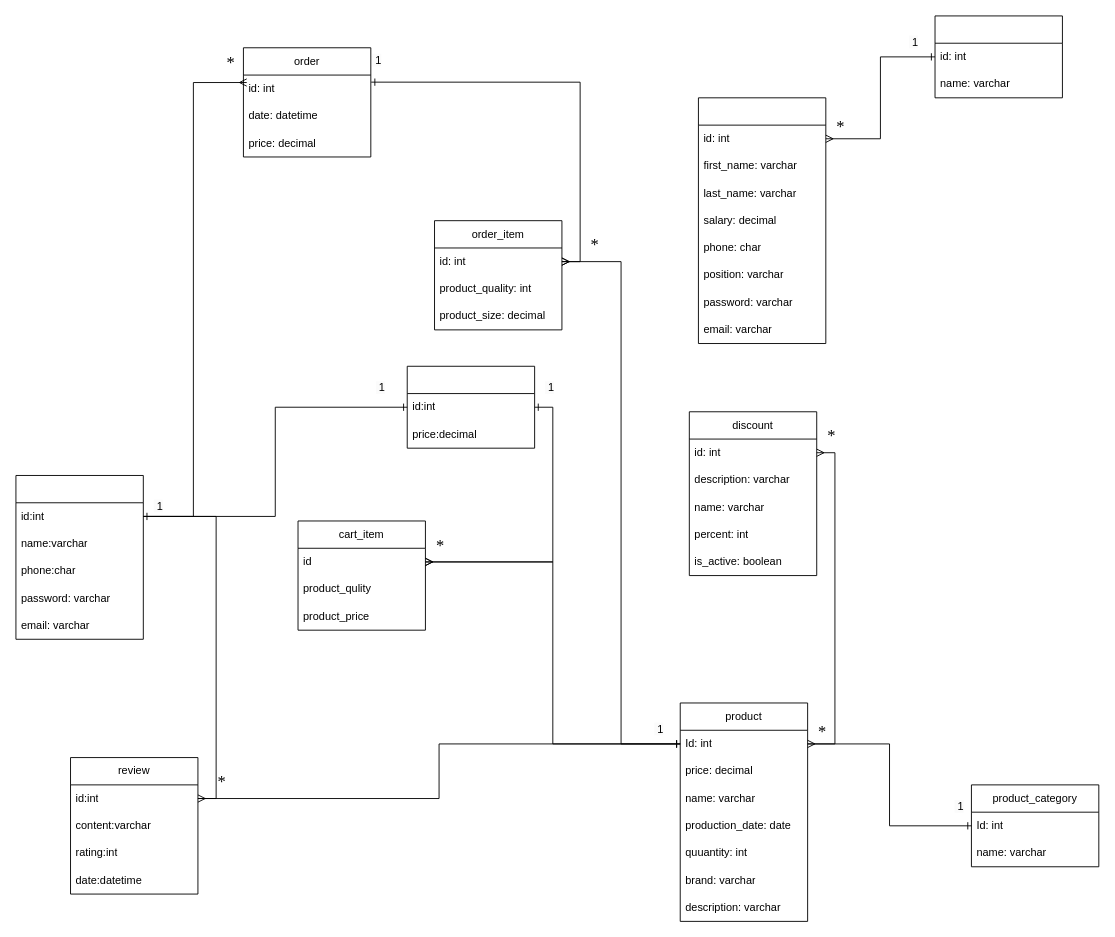
Image size: 1115x937. Some labels were removed from this diagram. The box of each missing label's shape, as (x1, y1, x2, y2) in pixels:
cart: (406, 365, 535, 448)
client: (15, 475, 143, 639)
employe: (698, 97, 826, 344)
employe_role: (934, 15, 1062, 98)
